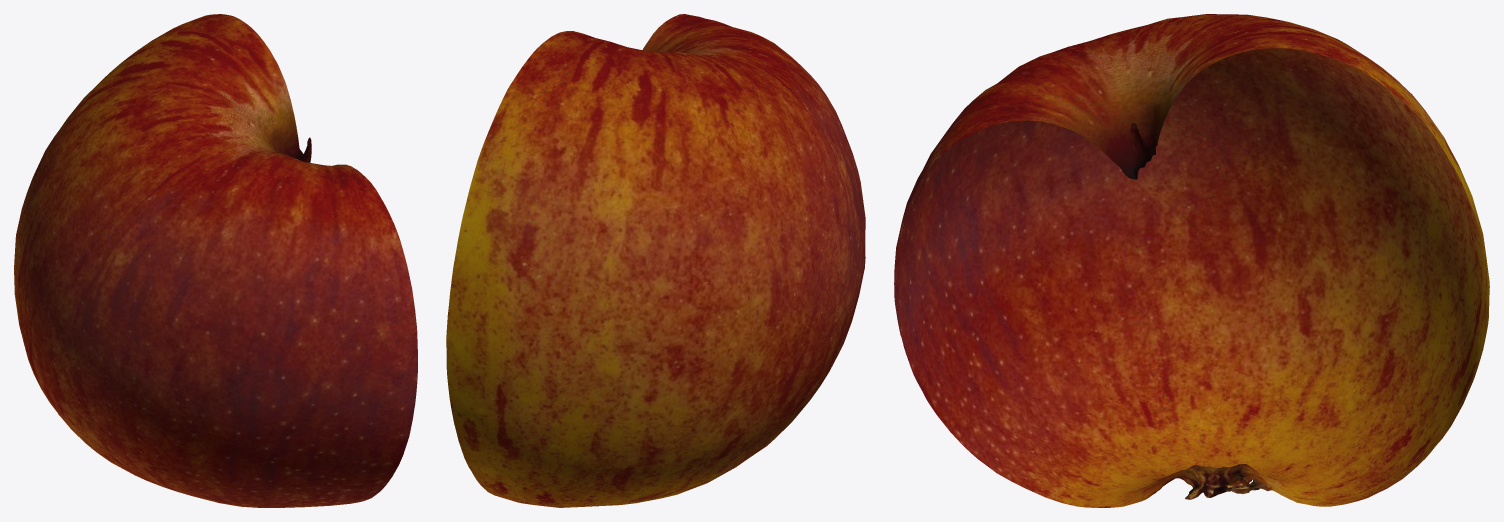
The model's file is halfB.glb.
The picture shows the model from 3 angles, left to right: view 1: azimuth 30°, elevation 25°; view 2: azimuth 150°, elevation 25°; view 3: azimuth 270°, elevation 25°; orthographic projection. The views are drawn at different scales.
Parts seen in each view (by area): view 1: food_apple_01; view 2: food_apple_01; view 3: food_apple_01.
Part boxes in pixels (x1,y1,x2,y2): food_apple_01: (14, 14, 417, 507); food_apple_01: (446, 14, 865, 507); food_apple_01: (894, 14, 1489, 507).
Size of the model in its own units: 0.9919 by 1.69 by 1.96.
1 material, 1 textured.
